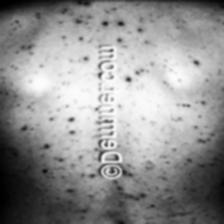Toxin: (123, 18, 224, 224), (0, 0, 98, 209)
